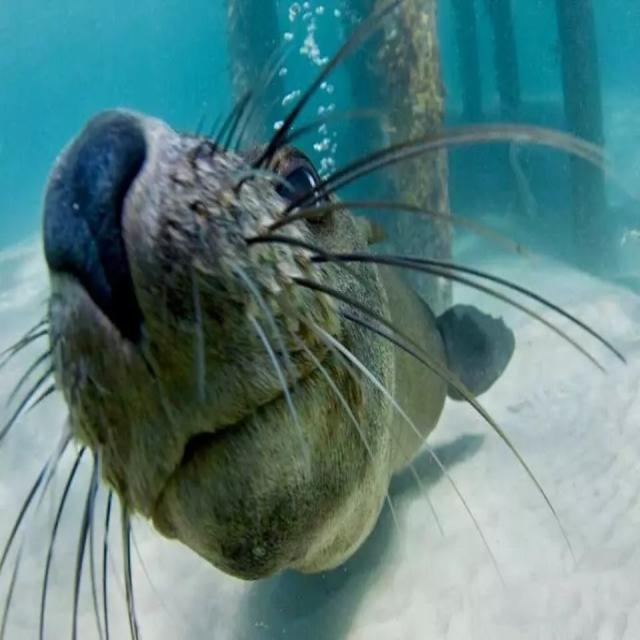WaterDog: (33, 106, 508, 584)
